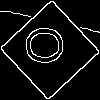O: (25, 25, 73, 66)
